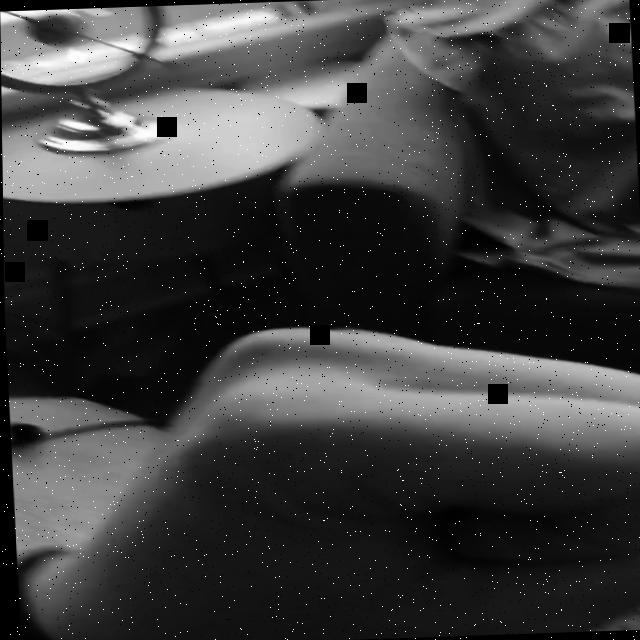Rock: (64, 314, 640, 640)
